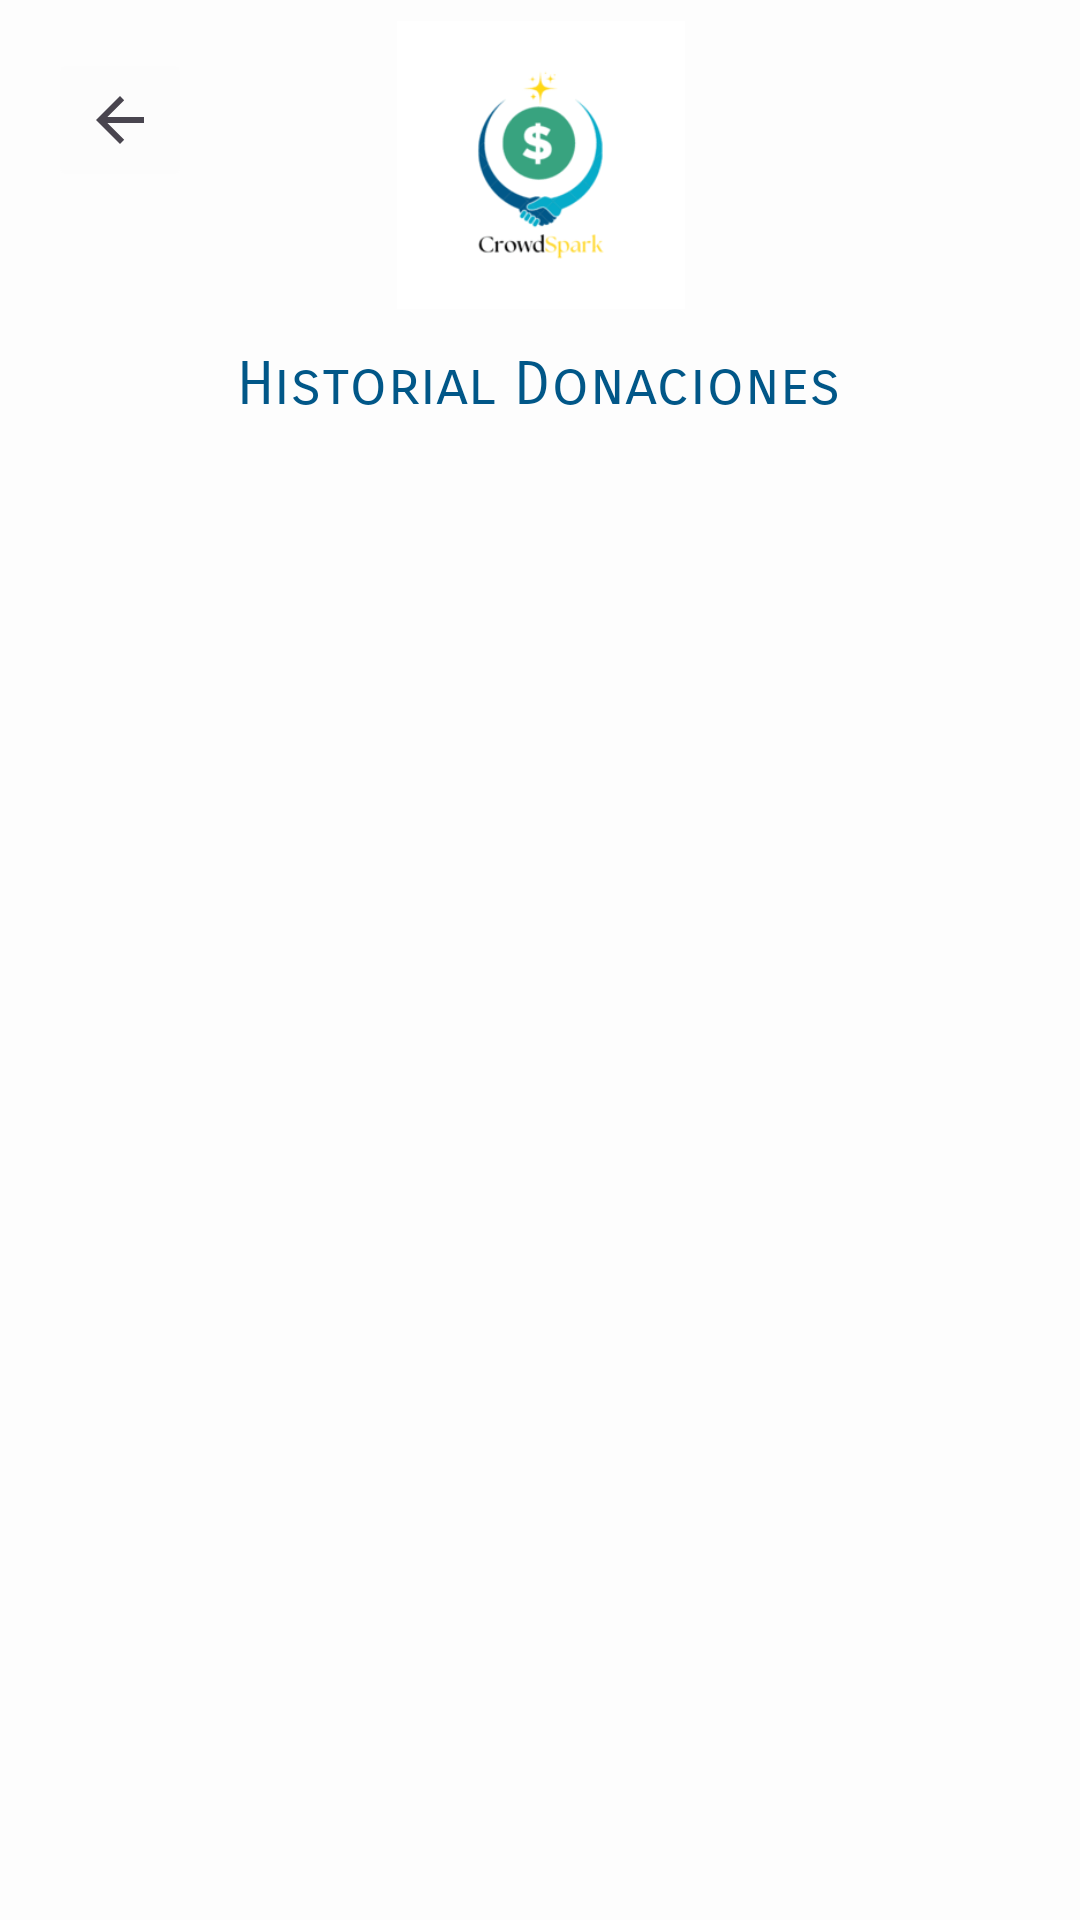

Screen size 1080px x 1920px. Icon name, then its box in pixels as (x1, y1, x2, y2):
Go back: (96, 96, 144, 144)
